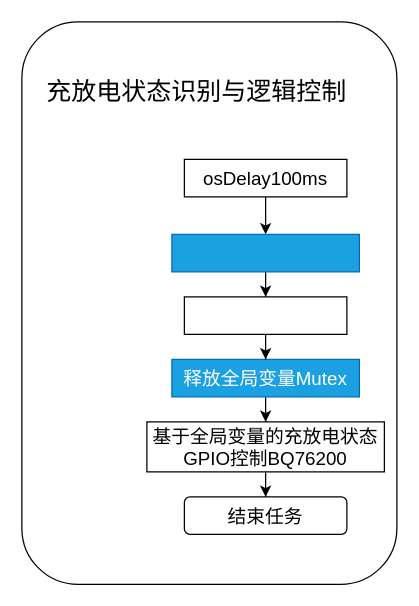
This 419x606 diagram has some shape labels left out. Each missing label, with the centre of its shape:
"申请全局变量Mutex" belongs at (x=265, y=252).
"读取全局变量" belongs at (x=265, y=315).
